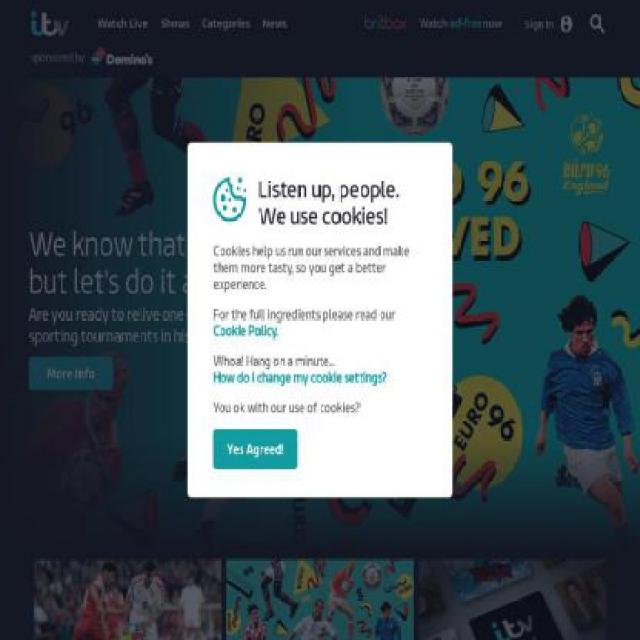button: (33, 559, 222, 639), (418, 559, 607, 639), (226, 559, 414, 639), (213, 429, 298, 469), (516, 0, 584, 48), (29, 356, 113, 390), (29, 364, 113, 382), (583, 0, 612, 48)
